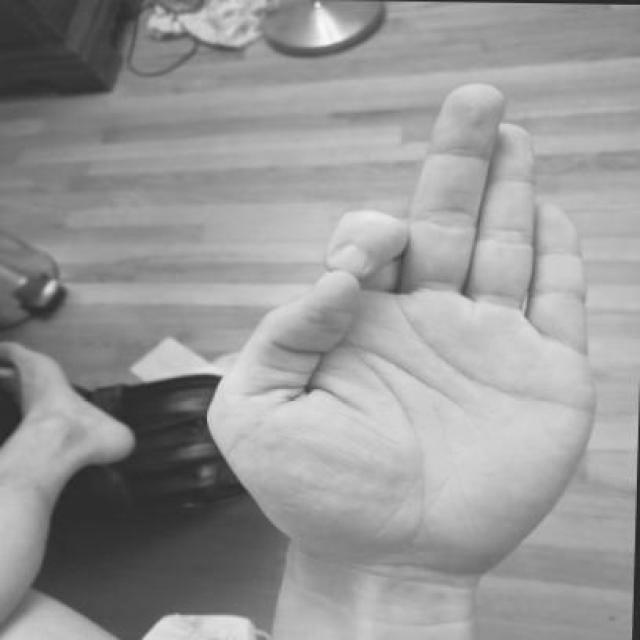F: (197, 73, 616, 586)
